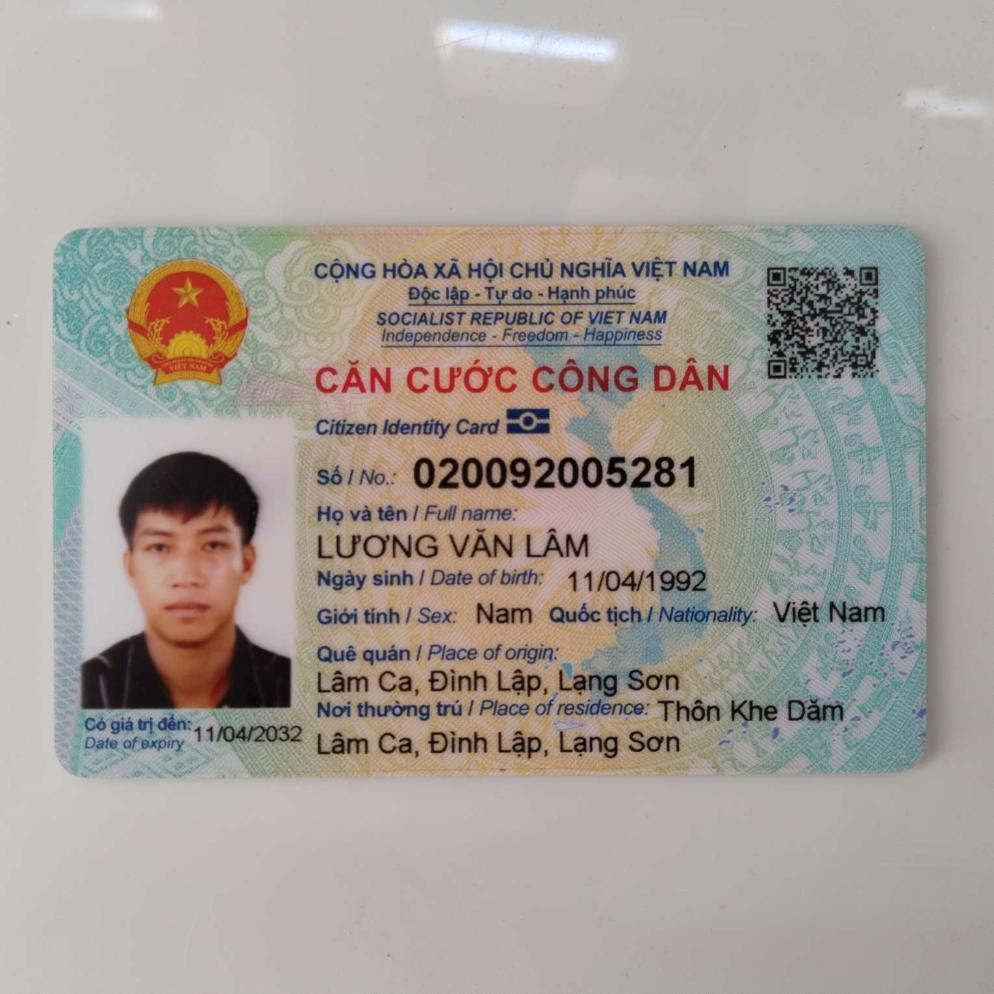ID: (405, 446, 713, 497)
birth: (561, 564, 717, 602)
name: (303, 523, 597, 566)
place: (312, 663, 694, 700)
residence: (310, 721, 690, 765), (652, 694, 847, 732)
